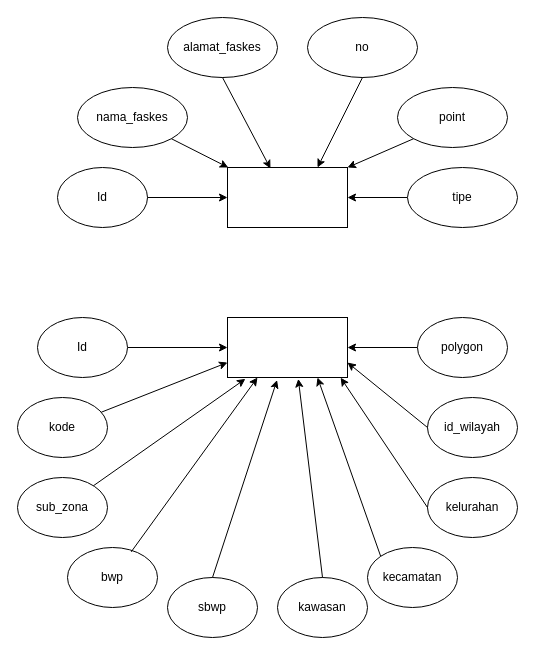
Some shapes in this 535 by 655 pixel diagram are drawn without their labels. The centre of each missing label's shape, as x and y in pixels:
"Faskes" goes at [287,197].
"Wilayah" goes at [287,347].
